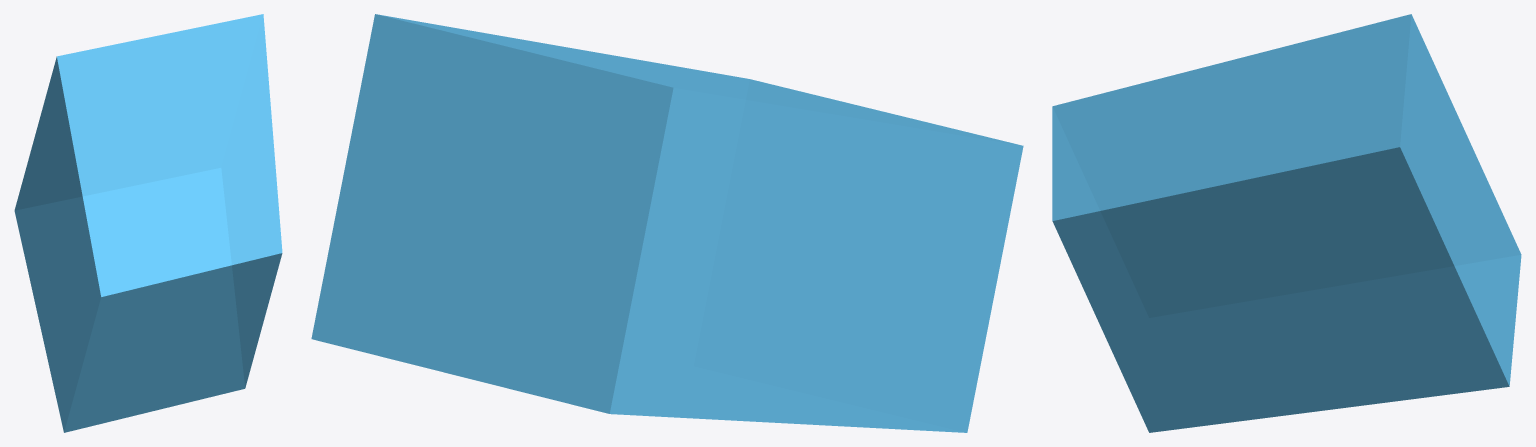
The model's file is Event_421115418_HBrechit_25.fbx.
3 renders of one model, left to right at view 1: azimuth 30°, elevation 25°; view 2: azimuth 150°, elevation 25°; view 3: azimuth 270°, elevation 25°, orthographic. The views are drawn at different scales.
Parts seen in each view (by area): view 1: Model; view 2: Model; view 3: Model.
Boxes of the visible parts, x1,y1,x2,y2 form: Model: (14, 14, 282, 432); Model: (311, 14, 1023, 432); Model: (1052, 14, 1521, 432).
Size of the model in its own units: 0.7052 by 0.637 by 0.7449.
